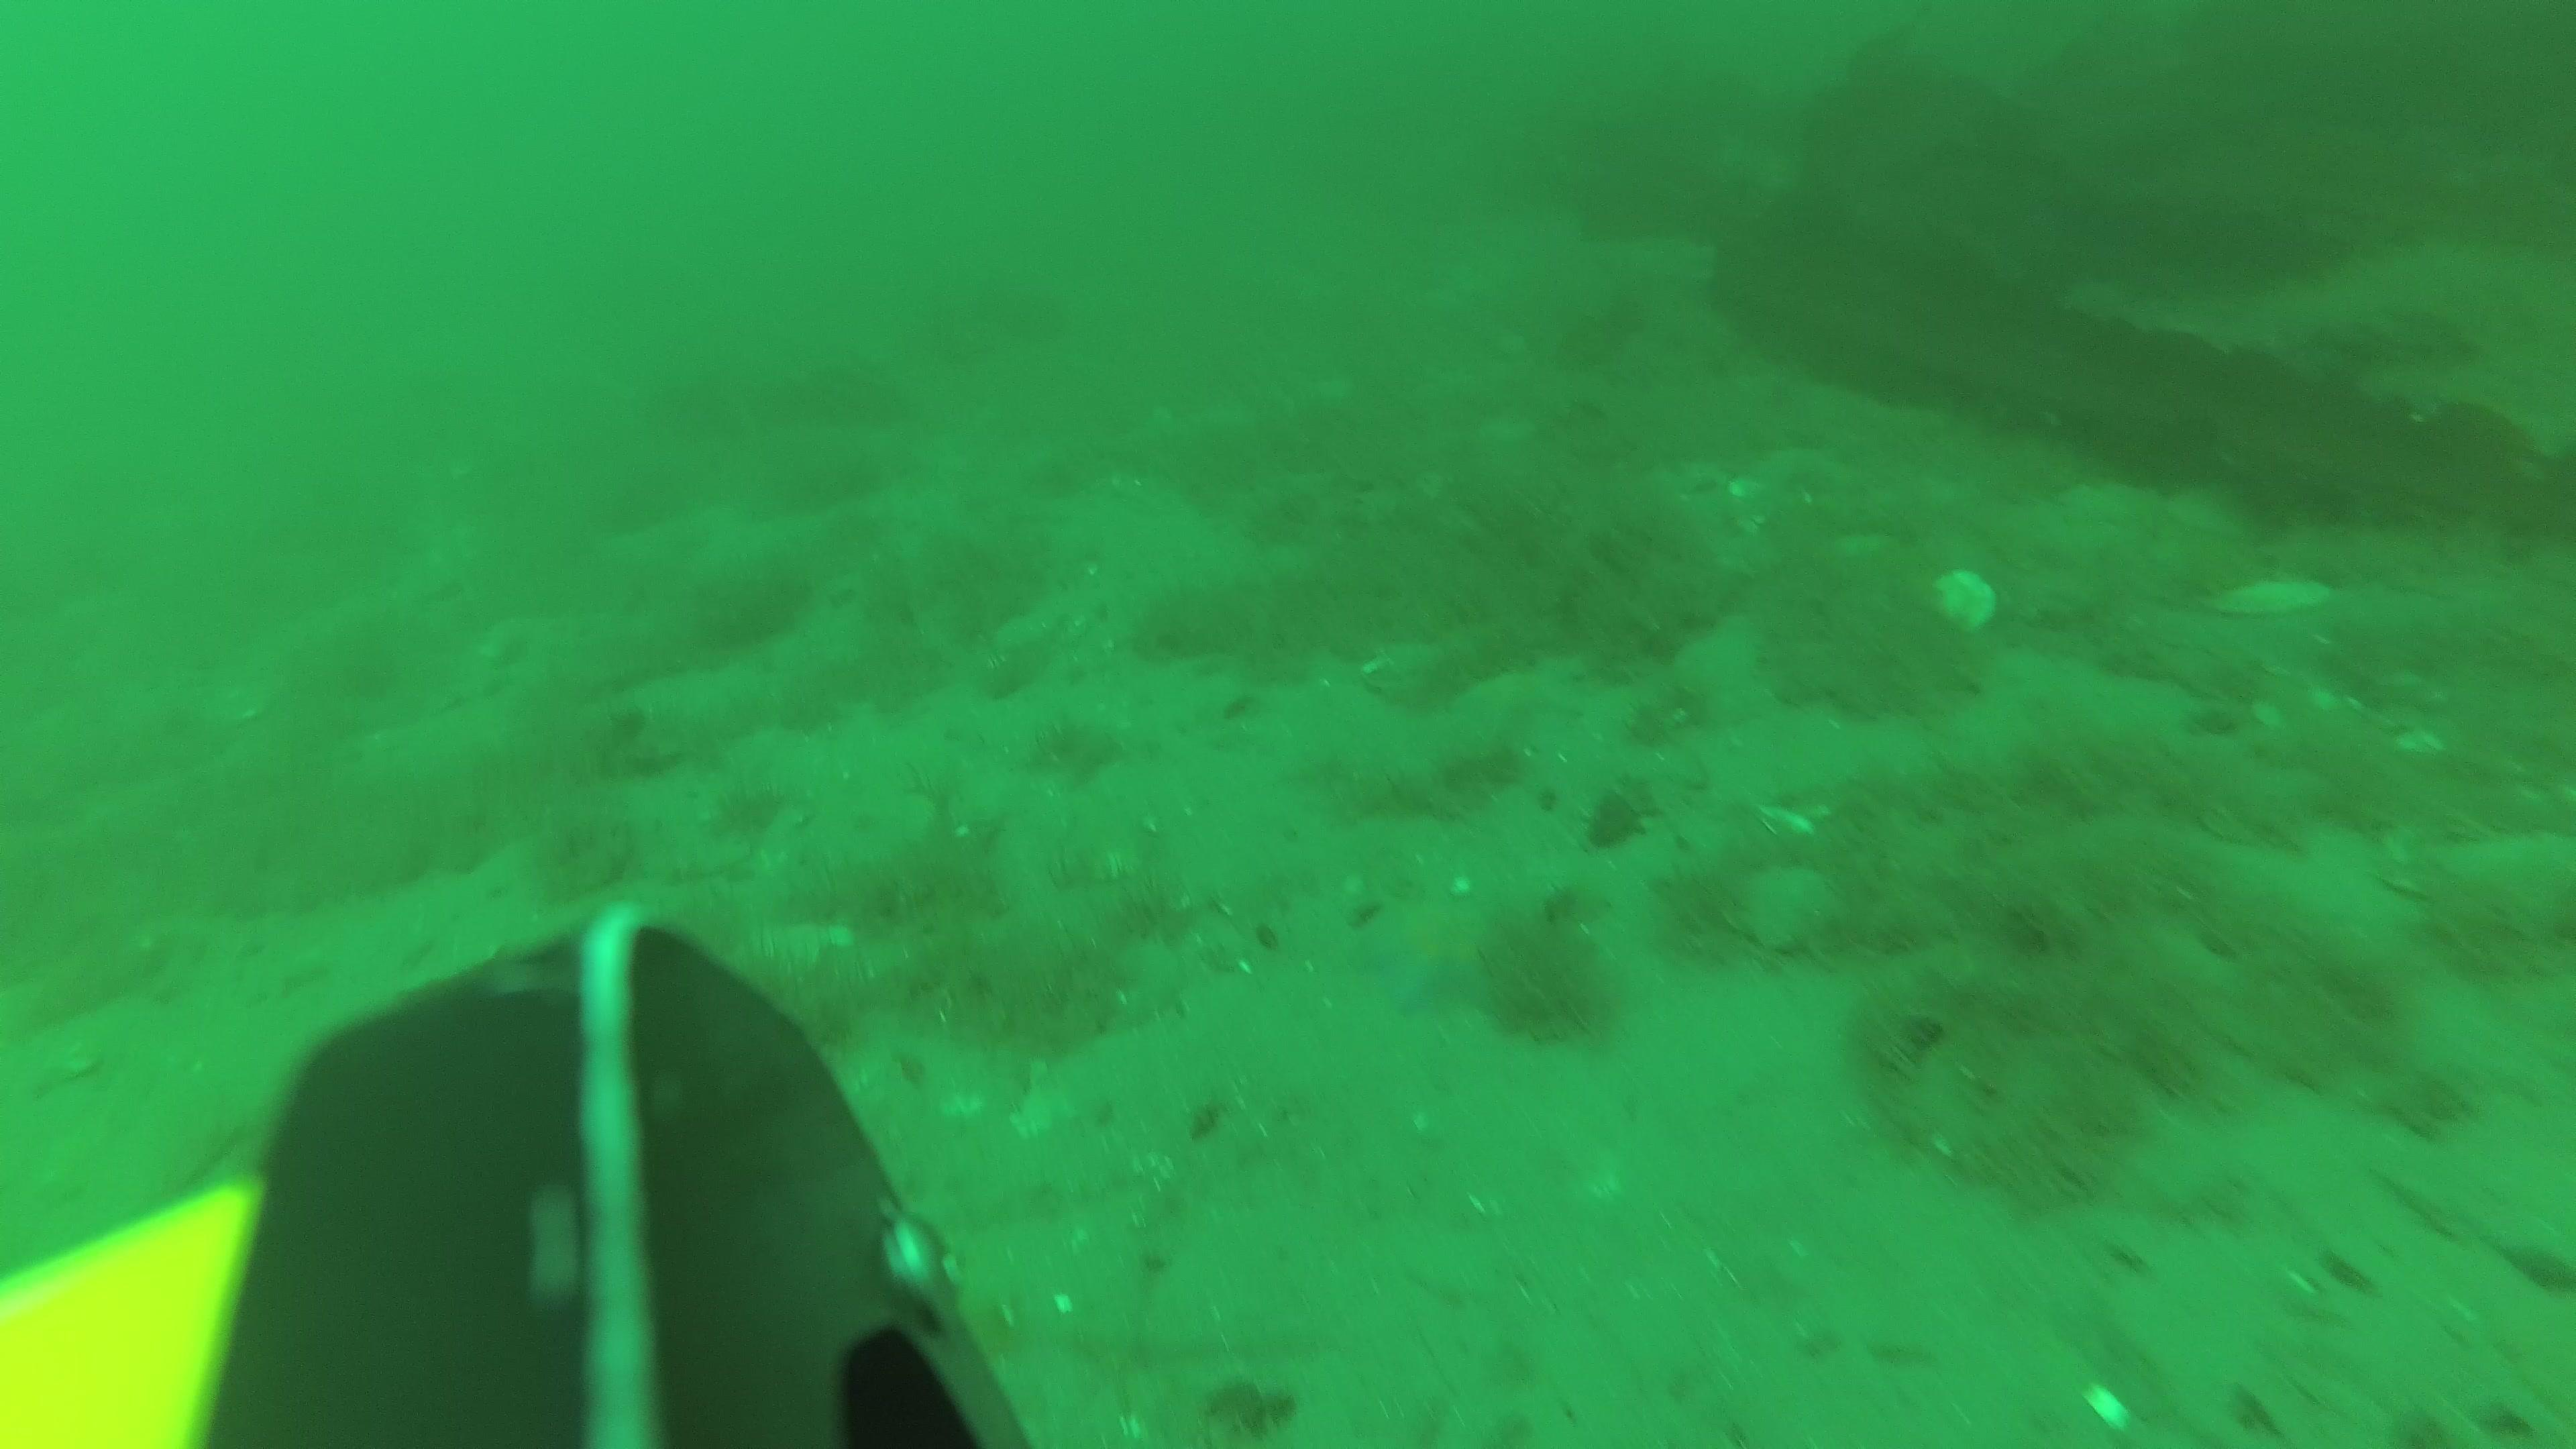scallop: (1730, 858, 1840, 952), (2208, 573, 2328, 616), (1936, 566, 1994, 633)
starfish: (1364, 878, 1500, 998), (1472, 672, 1555, 736)
